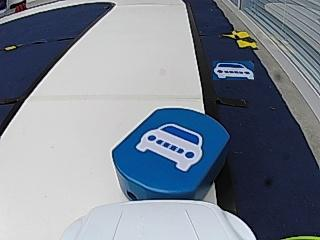safety: (137, 126, 205, 169)
